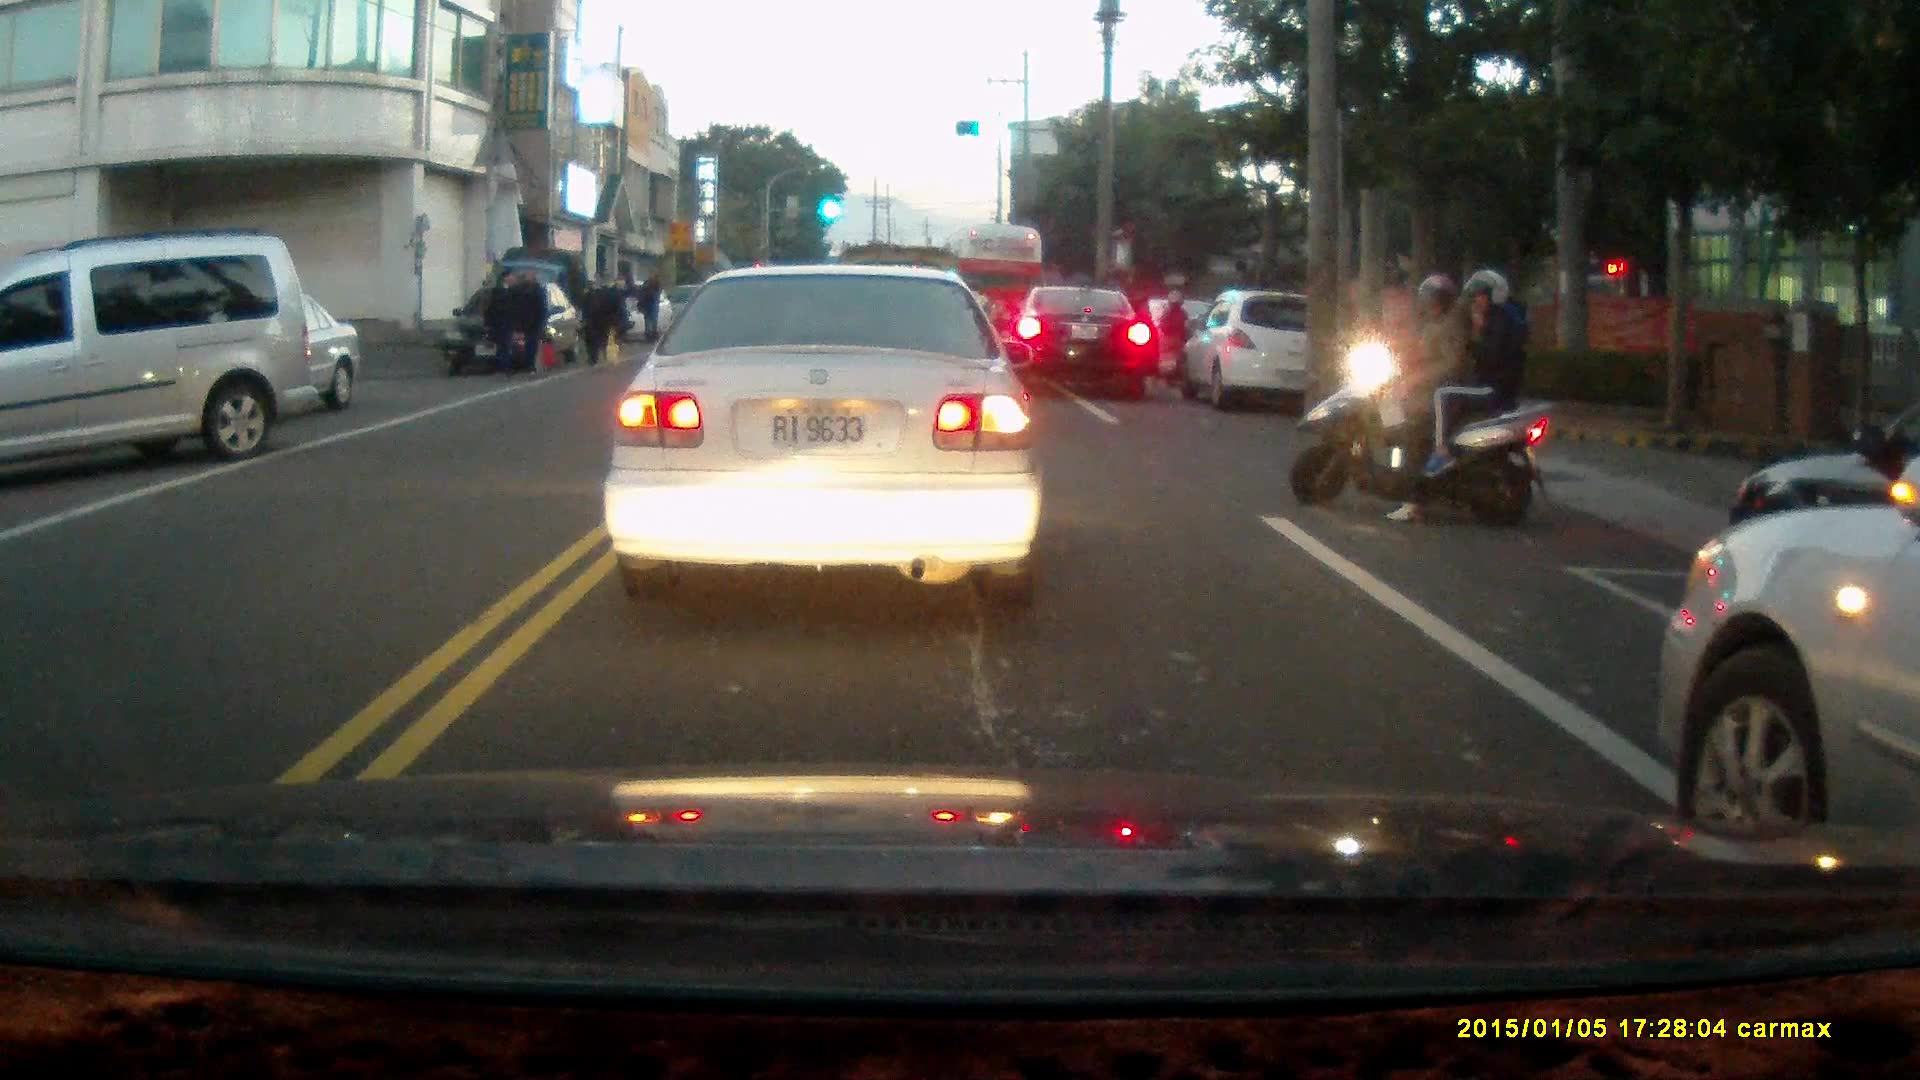pedestrian: (484, 263, 526, 382), (576, 266, 614, 370), (510, 263, 545, 376), (607, 269, 634, 349), (640, 271, 667, 342)
rider: (1282, 265, 1555, 533), (1155, 285, 1194, 390)
vehicle: (600, 259, 1044, 606), (1657, 458, 1920, 847), (1, 240, 315, 480), (1188, 289, 1351, 406), (1008, 287, 1154, 401), (442, 279, 583, 379)
